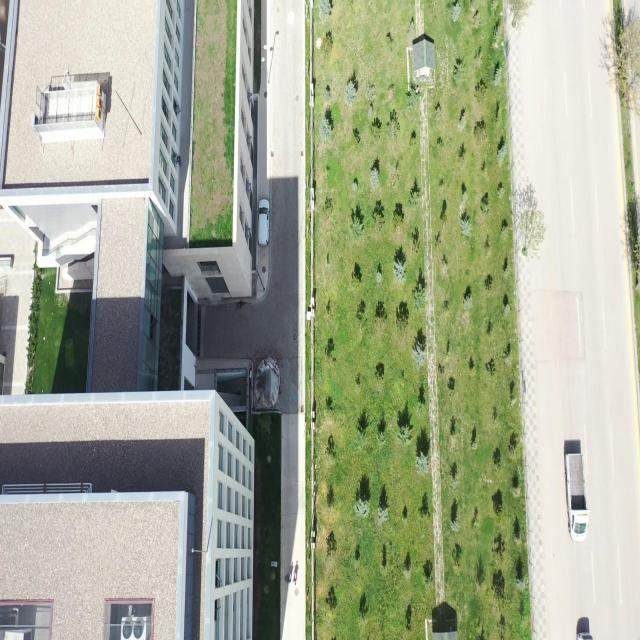p3rson: (286, 575, 292, 586), (293, 577, 297, 586)
